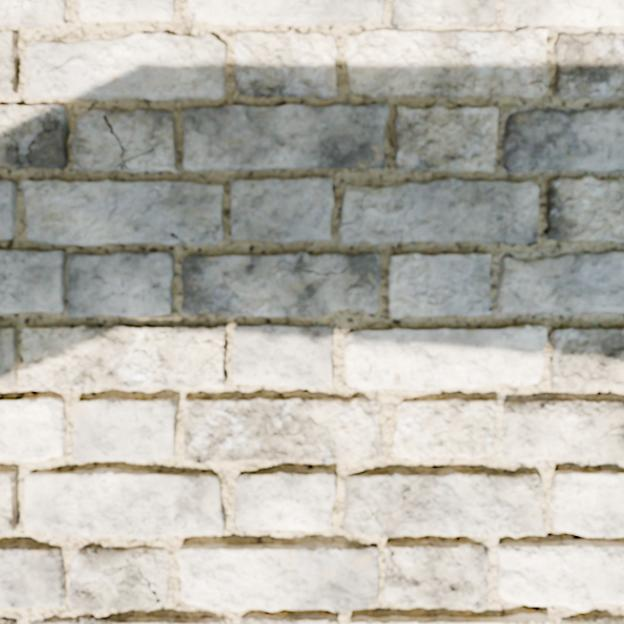brick: (24, 469, 224, 539), (183, 103, 388, 171), (347, 29, 549, 98), (180, 543, 378, 611), (344, 471, 546, 537), (25, 33, 226, 99), (21, 325, 225, 390), (184, 398, 383, 463), (22, 180, 224, 244), (340, 179, 538, 244), (345, 326, 546, 389), (182, 253, 380, 316), (383, 542, 488, 610), (395, 105, 497, 173), (235, 31, 337, 98), (68, 253, 174, 316), (72, 110, 178, 173), (73, 398, 178, 461), (231, 178, 332, 242), (68, 547, 169, 611), (389, 254, 491, 317), (393, 400, 499, 460), (231, 325, 333, 387), (236, 470, 334, 530), (189, 0, 384, 25), (547, 178, 623, 241), (551, 471, 623, 537), (550, 327, 623, 389), (554, 34, 623, 99), (0, 105, 68, 168), (0, 544, 65, 608), (0, 398, 66, 461), (0, 251, 65, 314), (502, 0, 623, 28), (391, 0, 495, 29), (78, 0, 175, 21), (350, 614, 550, 623), (0, 0, 65, 27), (34, 616, 225, 623), (0, 131, 32, 169), (0, 32, 18, 97), (0, 472, 17, 536), (0, 328, 18, 386), (0, 181, 16, 239), (240, 614, 337, 623), (561, 616, 623, 623), (0, 618, 16, 623)
broken_brick: (496, 540, 623, 612), (502, 104, 623, 173), (494, 251, 623, 315), (502, 399, 623, 463), (610, 429, 623, 433)
crack: (98, 558, 162, 610), (103, 115, 156, 171), (0, 122, 36, 166), (386, 546, 411, 587), (2, 0, 44, 21), (597, 425, 623, 441), (168, 233, 185, 243), (529, 79, 547, 87), (487, 305, 492, 316)
